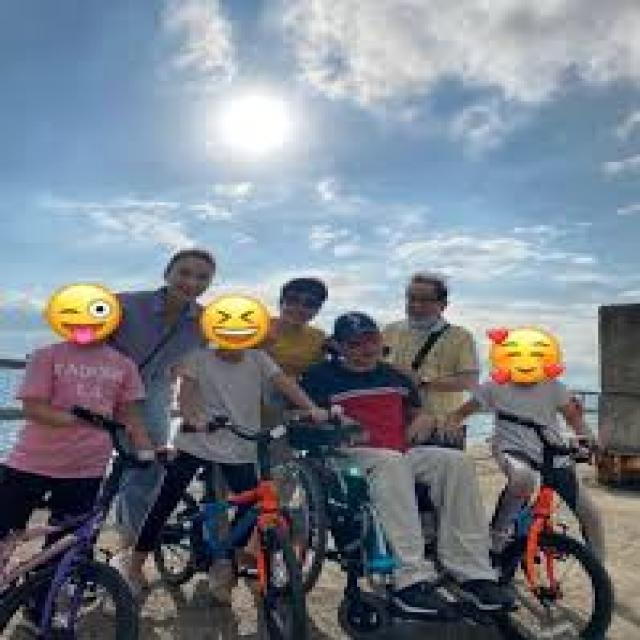wheelchairs: (267, 405, 486, 637)
